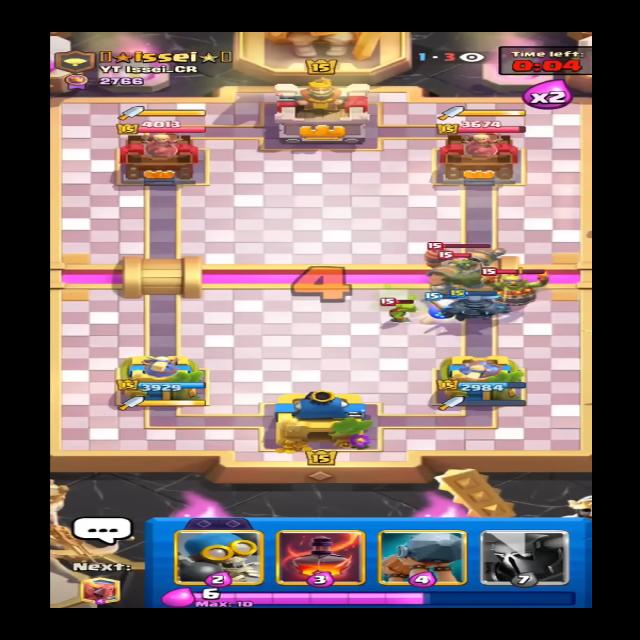goblin: (373, 298, 418, 325)
goblin-demolisher: (482, 262, 552, 311)
goblin-machine: (422, 239, 507, 293)
